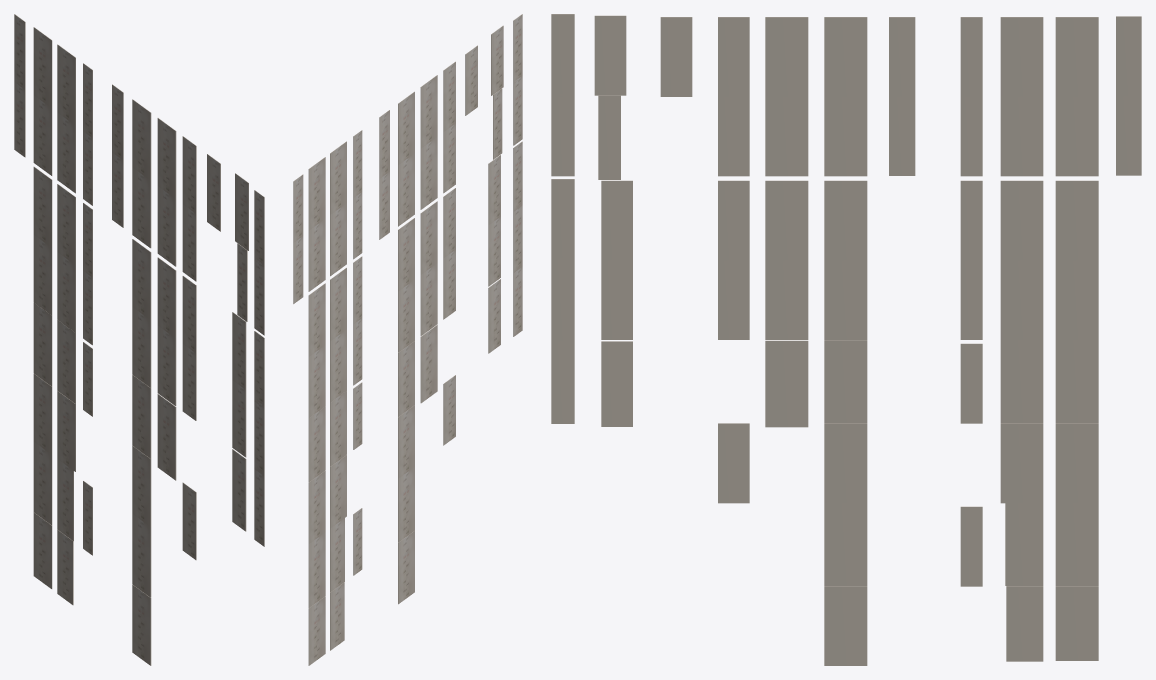
The picture shows the model from 3 angles, left to right: view 1: azimuth 30°, elevation 25°; view 2: azimuth 150°, elevation 25°; view 3: azimuth 270°, elevation 25°; orthographic projection. The views are drawn at different scales.
Parts seen in each view (by area): view 1: Plane004; view 2: Plane004; view 3: Plane004.
Boxes of the visible parts, box(x1,y1,x2,y2) form: Plane004: box(14, 14, 264, 665); Plane004: box(293, 14, 522, 665); Plane004: box(551, 14, 1141, 665).
Size of the model in its own units: 0.6001 by 97.64 by 80.32.
Materials: 1 (1 with a texture image).
